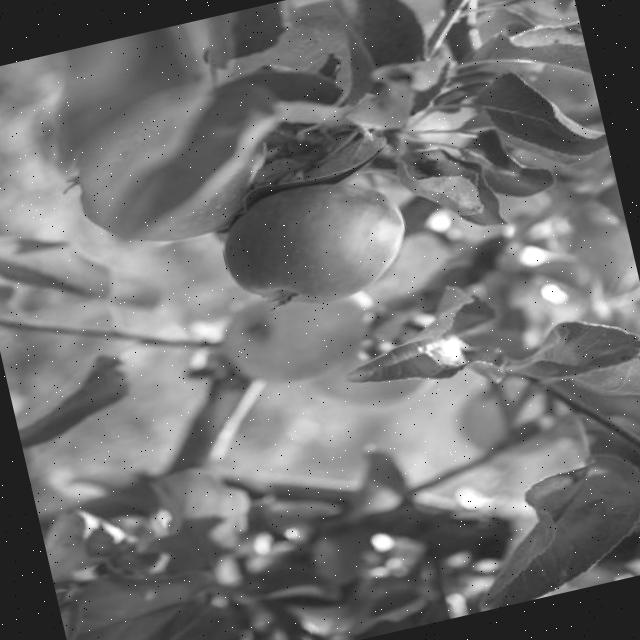Unripe: (213, 167, 417, 324), (216, 277, 381, 394)
